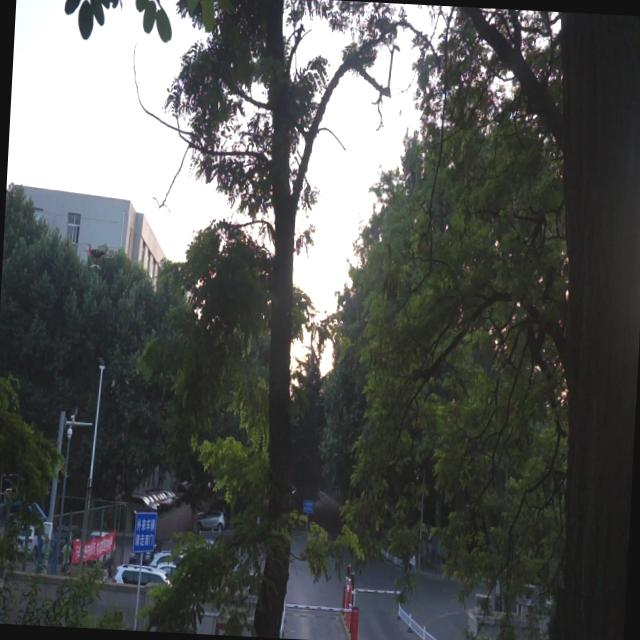drone: (81, 240, 111, 271)
